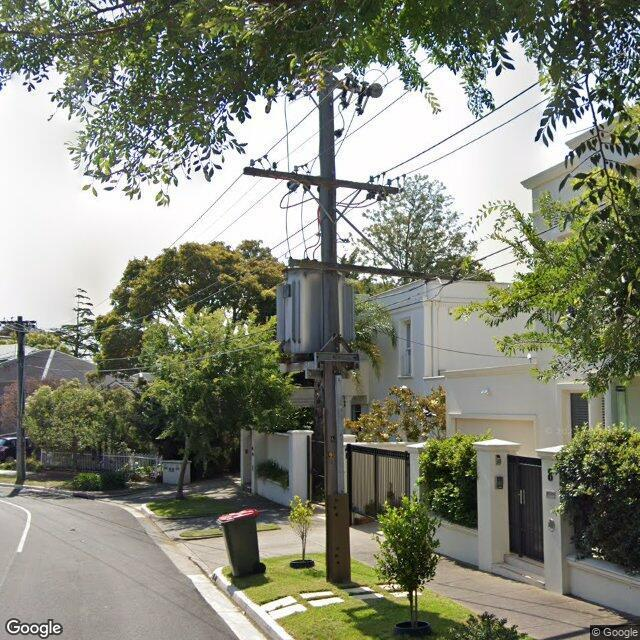crossarm: (243, 166, 399, 195), (288, 258, 424, 278), (307, 76, 369, 96), (0, 320, 36, 323)
timber-pole: (318, 71, 352, 584), (16, 316, 26, 481)
transformer: (276, 278, 355, 354)
